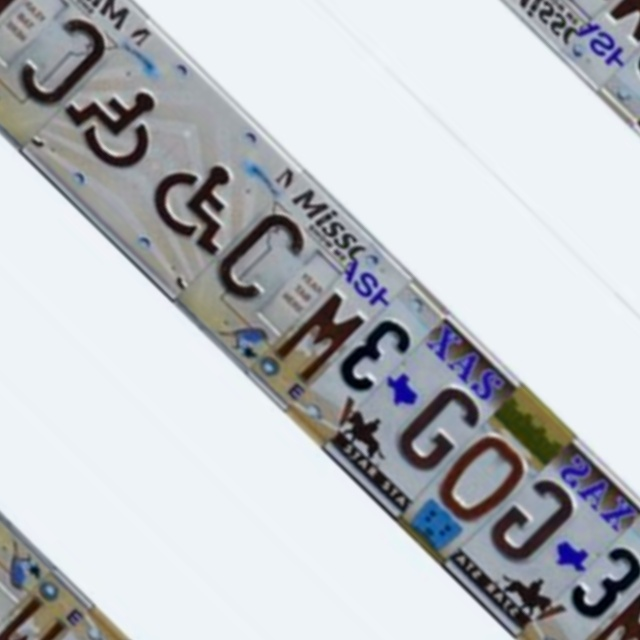ISA: (53, 53, 181, 181), (140, 138, 267, 266)
